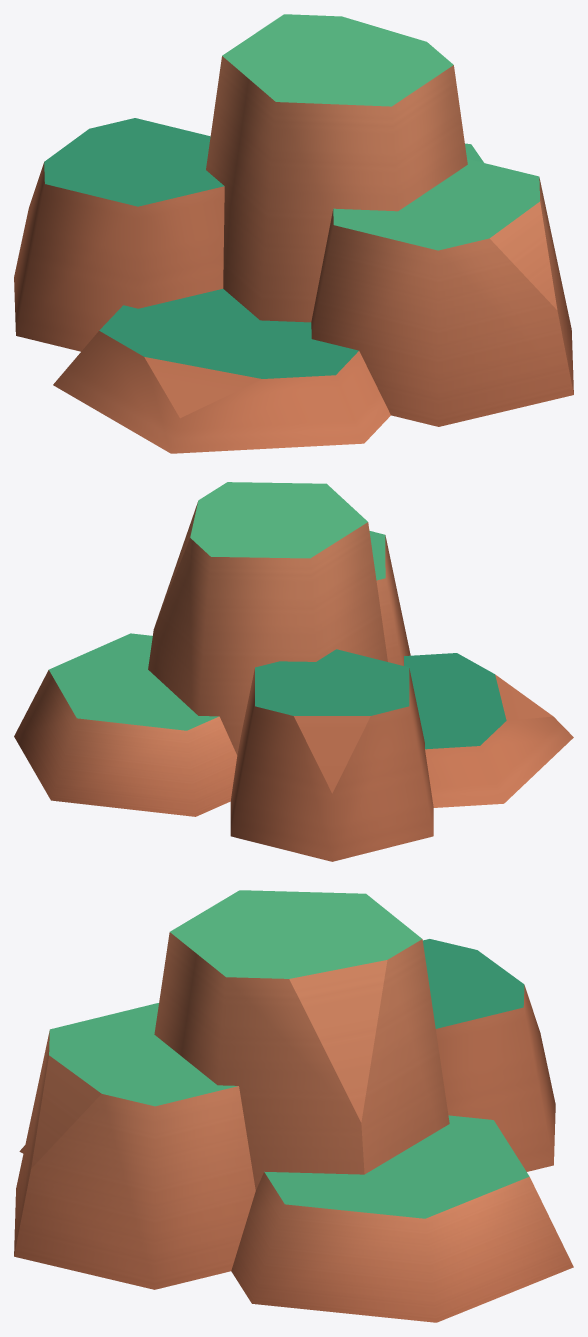
File: detail-dirt-large.fbx
The picture shows the model from 3 angles, top to bottom: view 1: azimuth 30°, elevation 25°; view 2: azimuth 150°, elevation 25°; view 3: azimuth 270°, elevation 25°; orthographic projection. The views are drawn at different scales.
Visible parts, largest first — view 1: detail-dirt-large; view 2: detail-dirt-large; view 3: detail-dirt-large.
Part boxes in pixels (box(x1,y1,x2,y2)): detail-dirt-large: box(14, 14, 573, 453); detail-dirt-large: box(14, 482, 573, 861); detail-dirt-large: box(14, 890, 573, 1322).
Size of the model in its own units: 85.31 by 41.45 by 77.85.
